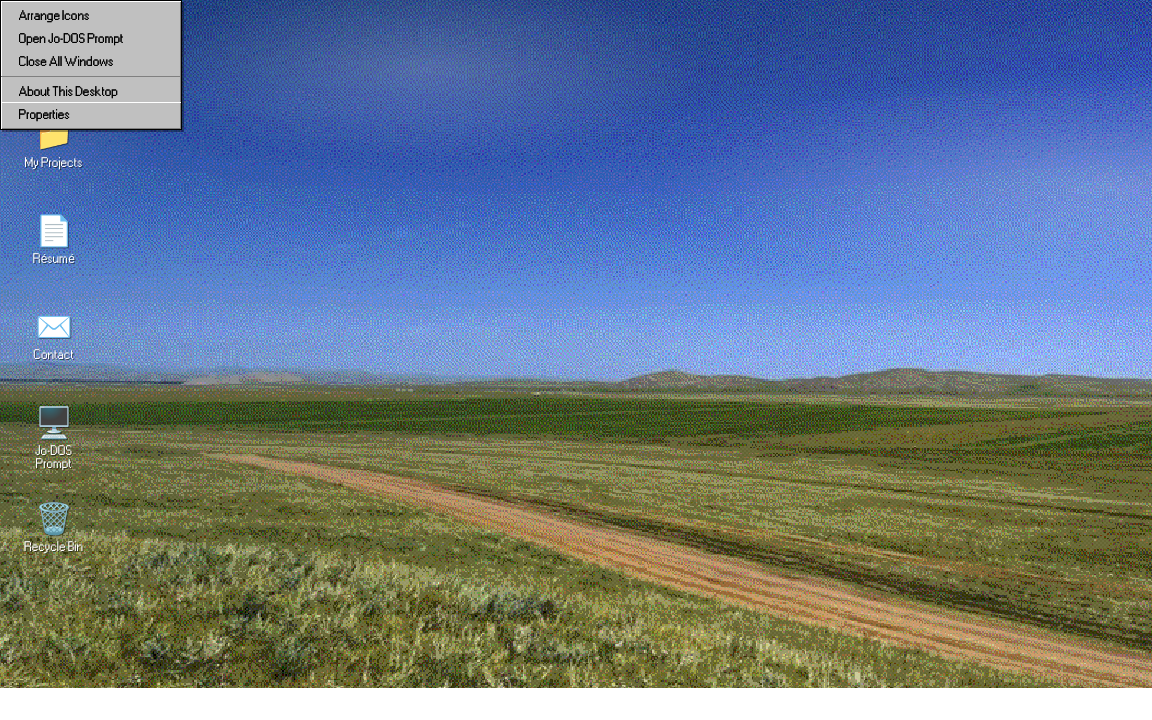
Test: Desktop › Properties opens Display Properties
Click the menu item "Properties". click: (91, 114)
box: [1,103,181,126]
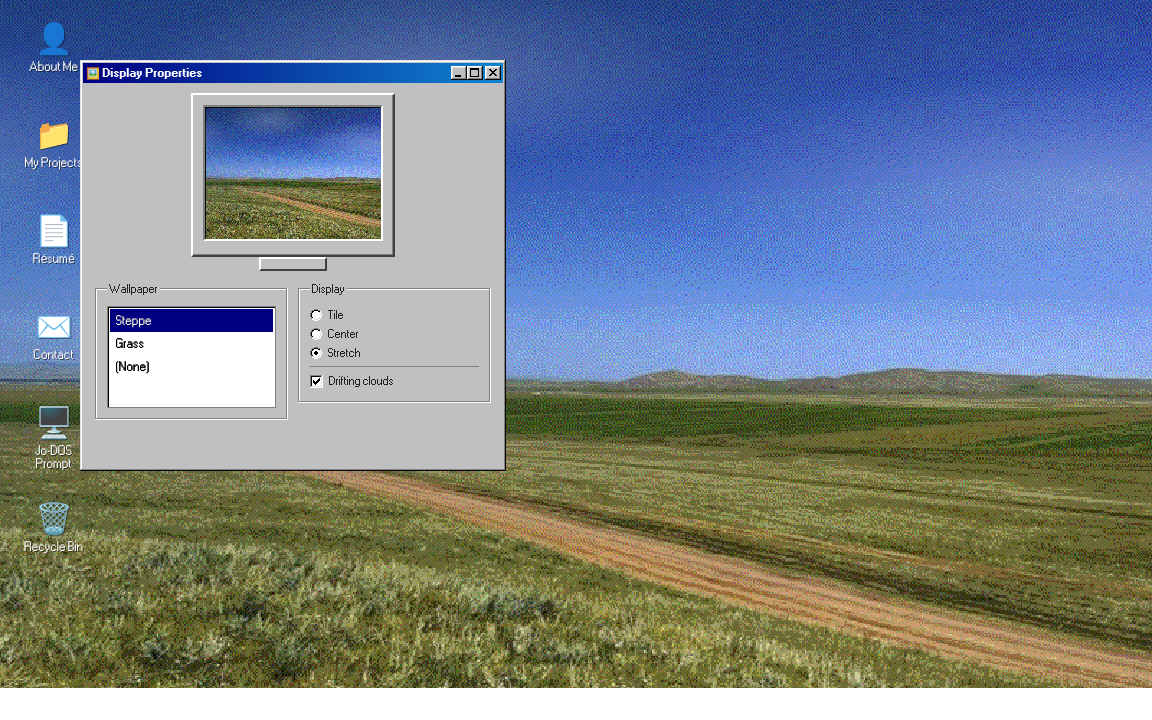
Result: the dialog "Display Properties" is shown at [80,60,506,471]
